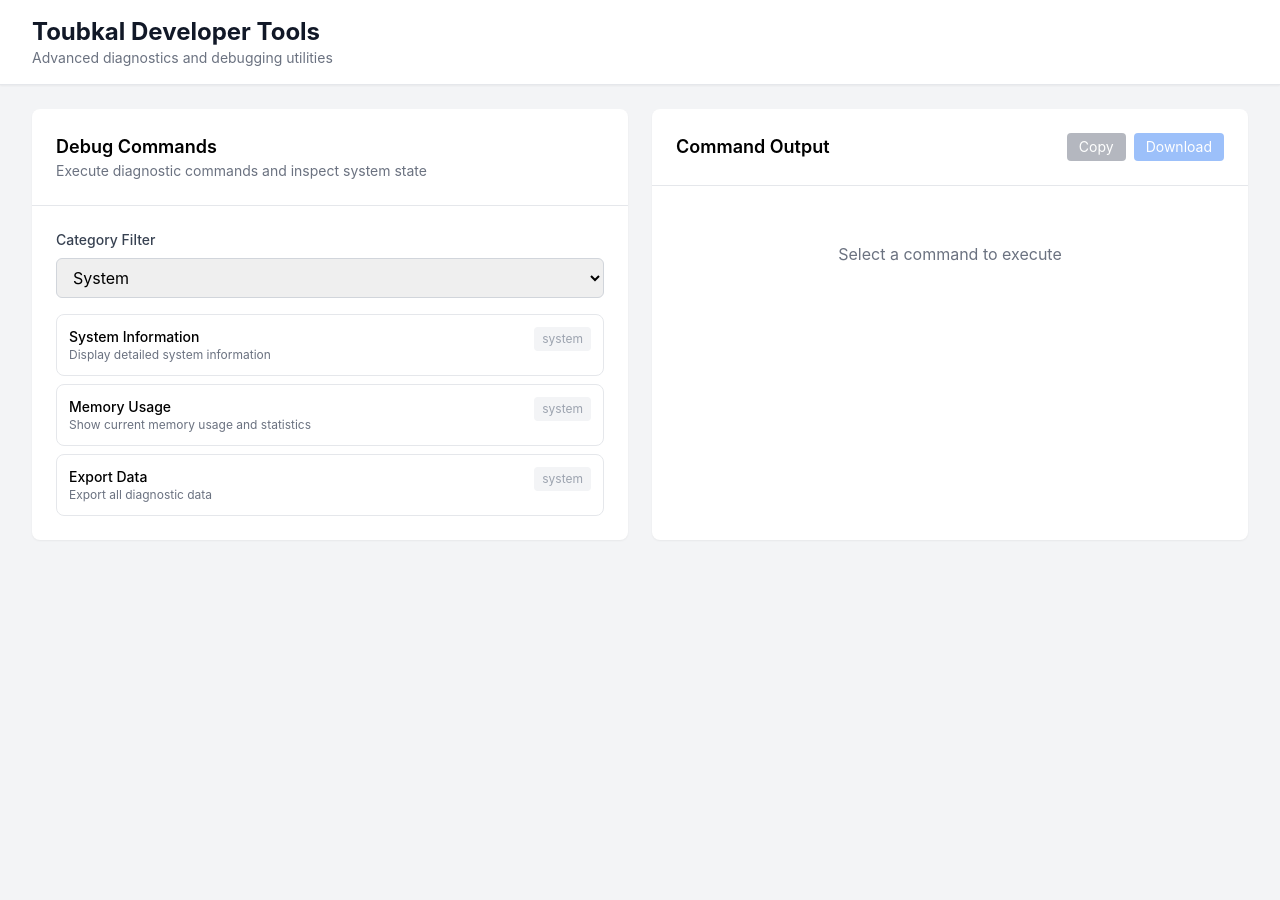
Test: DeveloperTools › should execute error summary command
The image size is (1280, 900).
# Change category filter to show all commands
Select "All Categories" in the dropdown showing "System": (330, 278) left=56, top=258, right=604, bottom=298
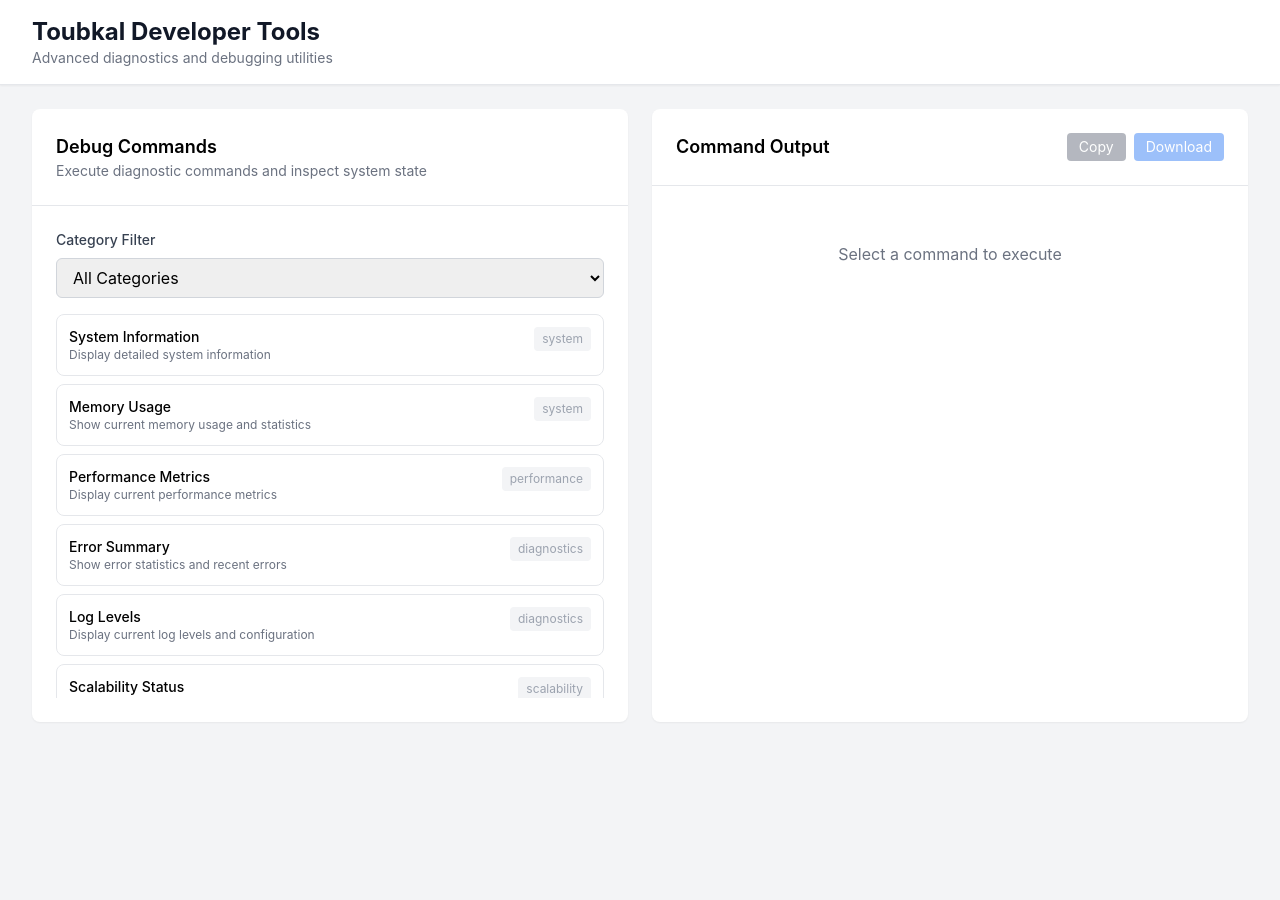
Click the heading "Error Summary": (119, 546) left=69, top=538, right=170, bottom=555
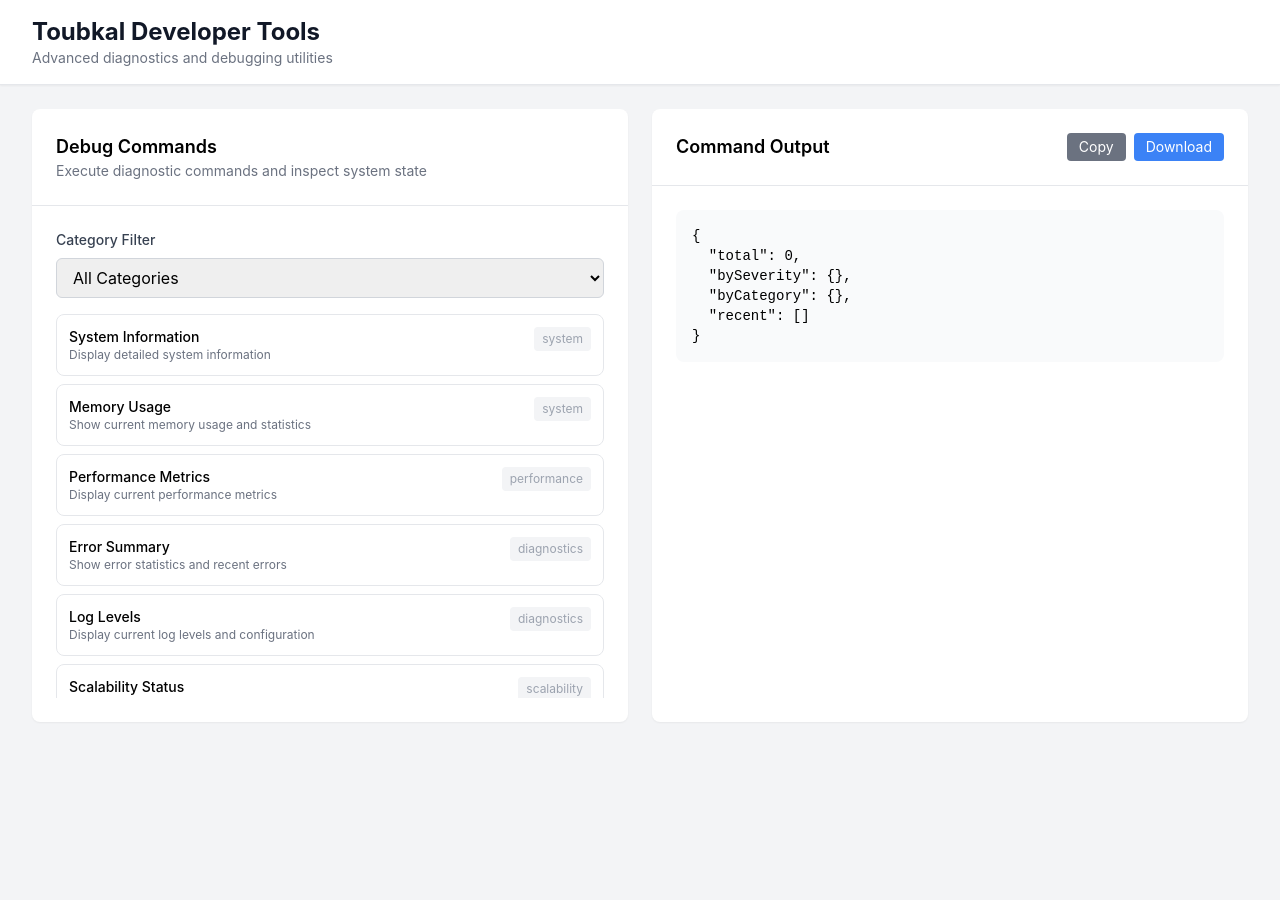
Expected: the text "total" is shown, left=692, top=228, right=852, bottom=344
